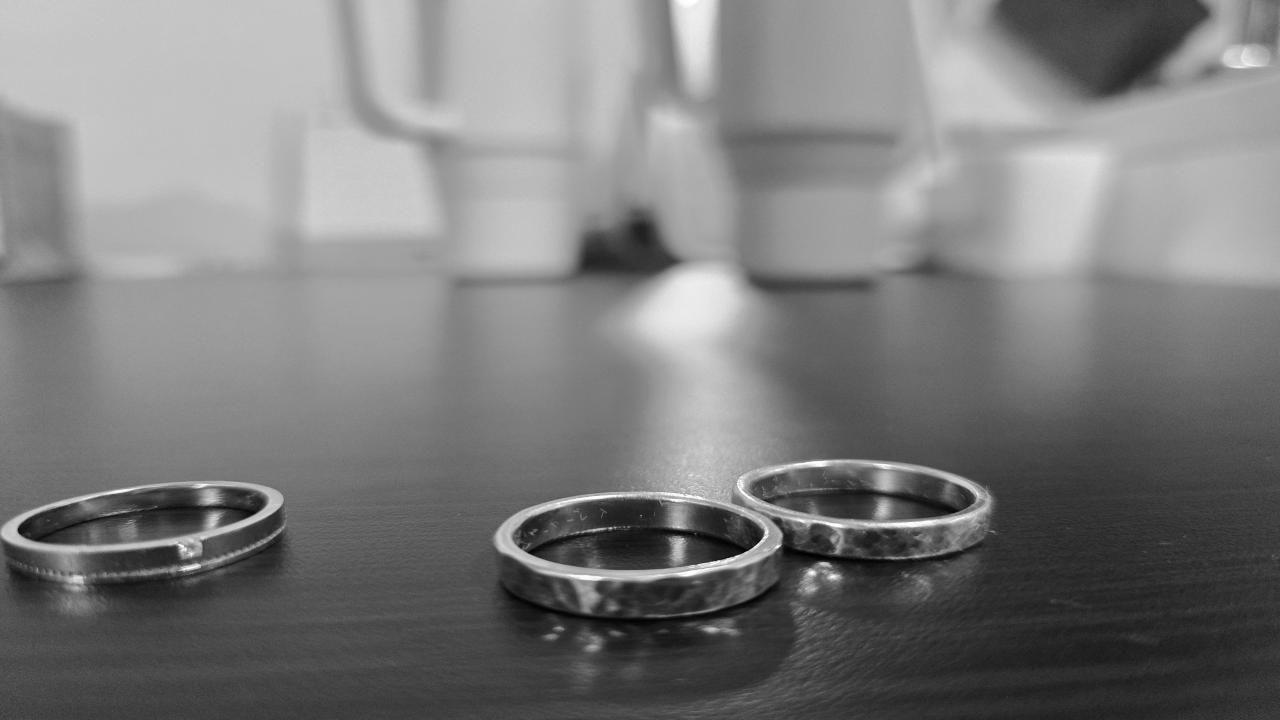ring: (492, 490, 784, 620), (0, 478, 297, 584), (730, 457, 1000, 559)
